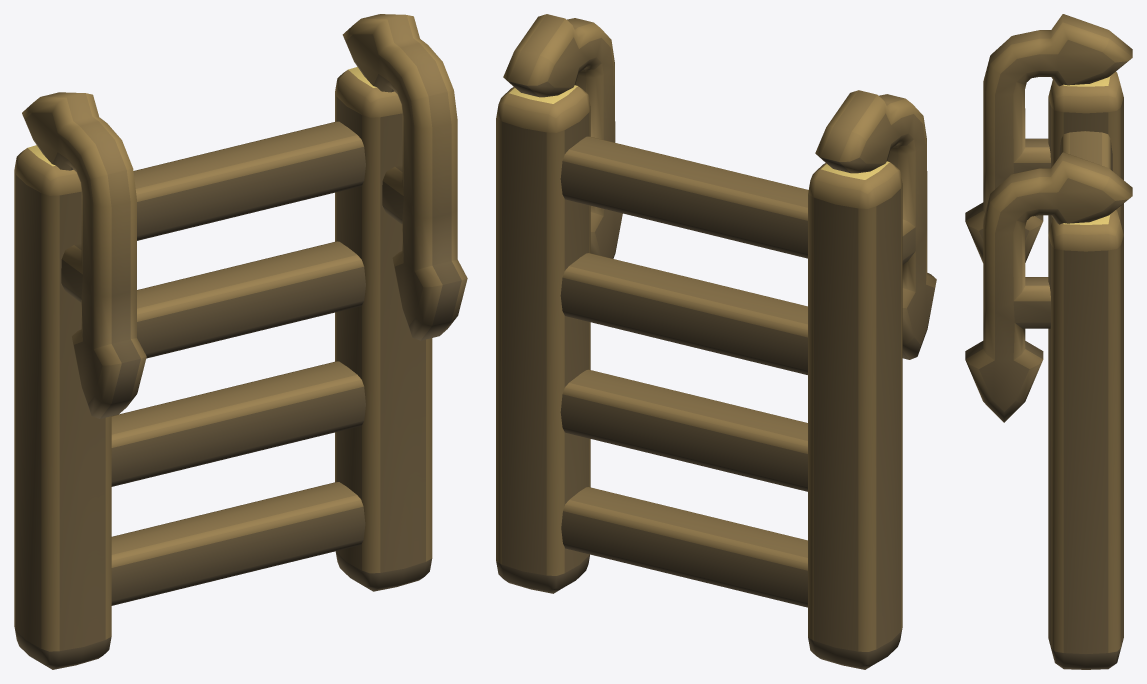
Rendered from Wood_Ladder_Top2.fbx.
The picture shows the model from 3 angles, left to right: view 1: azimuth 30°, elevation 25°; view 2: azimuth 150°, elevation 25°; view 3: azimuth 270°, elevation 25°; orthographic projection. The views are drawn at different scales.
Parts seen in each view (by area): view 1: Wood_Ladder_Top2_LOD0; view 2: Wood_Ladder_Top2_LOD0; view 3: Wood_Ladder_Top2_LOD0.
Part boxes in pixels (<box>): Wood_Ladder_Top2_LOD0: <box>14,14,467,669</box>; Wood_Ladder_Top2_LOD0: <box>496,14,936,669</box>; Wood_Ladder_Top2_LOD0: <box>965,14,1132,669</box>.
Size of what is drawn, in the model's own units: 0.8613 by 1.19 by 0.3586.
